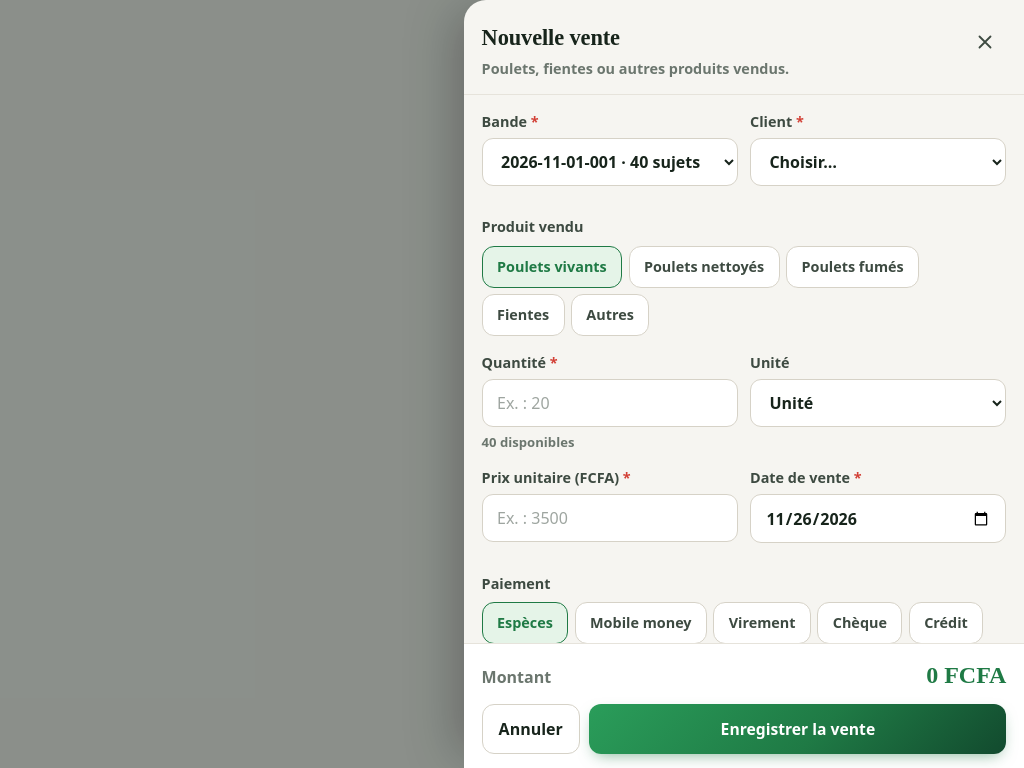
formulaires de création › vente : impossible de vendre plus de poulets que la bande n’en compte
Step 1. Select "Restaurant Le Coq" in the dropdown labelled "Client *" → (878, 162), box top-left (750, 138), bottom-right (1006, 186)
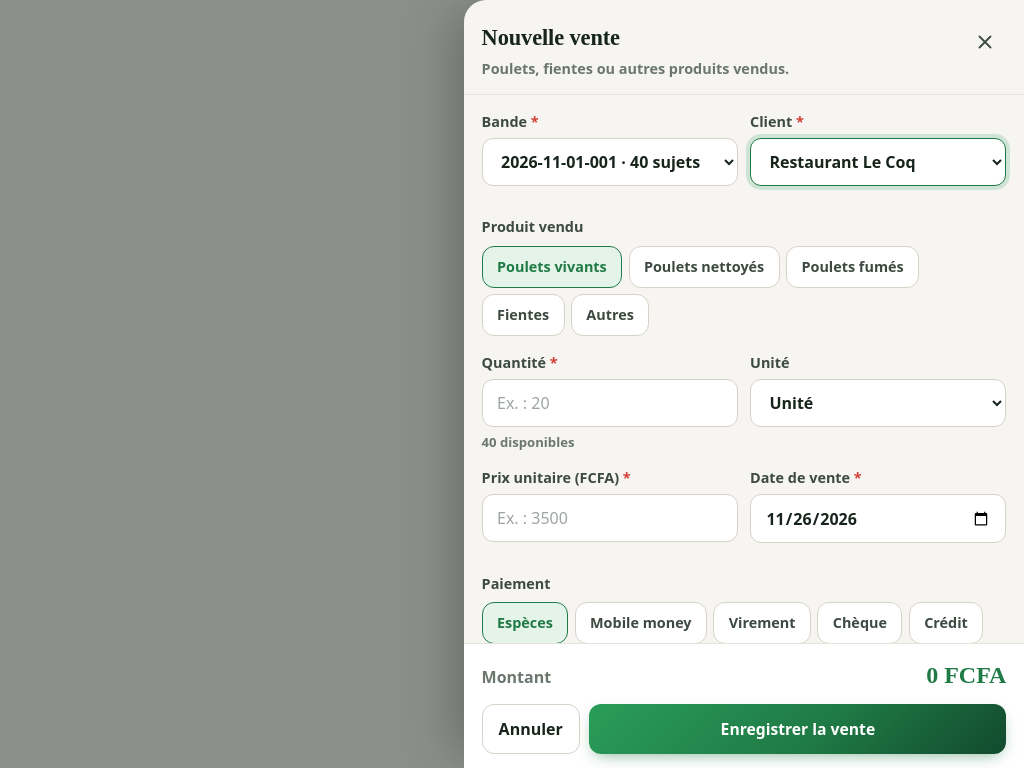
Step 2. Type "50" into the field with placeholder "Ex. : 20" → (610, 403), box top-left (482, 379), bottom-right (738, 427)
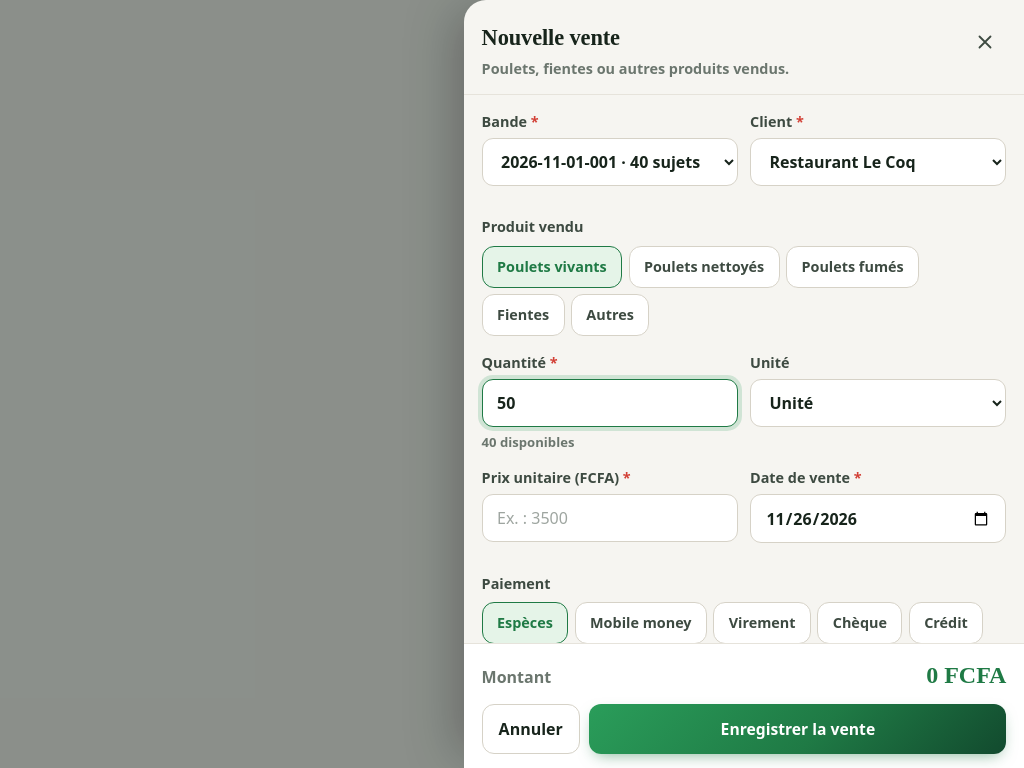
Step 3. Type "2500" into the field with placeholder "Ex. : 3500" → (610, 518), box top-left (482, 494), bottom-right (738, 542)
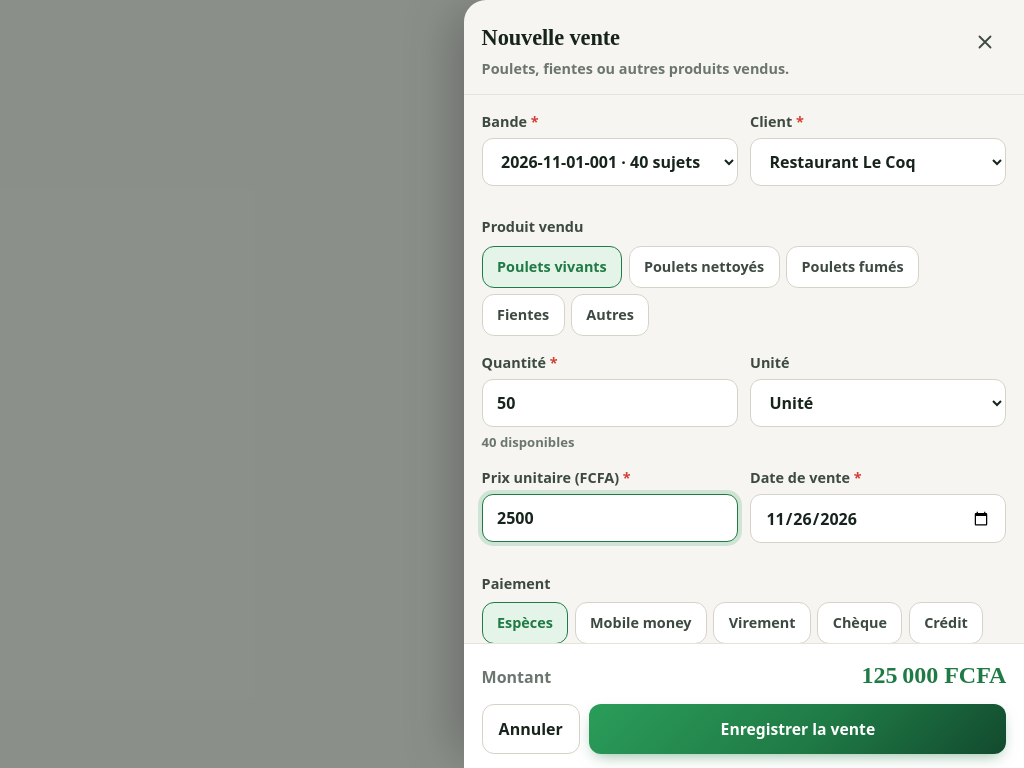
Step 4. Click the button "Enregistrer la vente" → (798, 729), box top-left (589, 704), bottom-right (1006, 754)
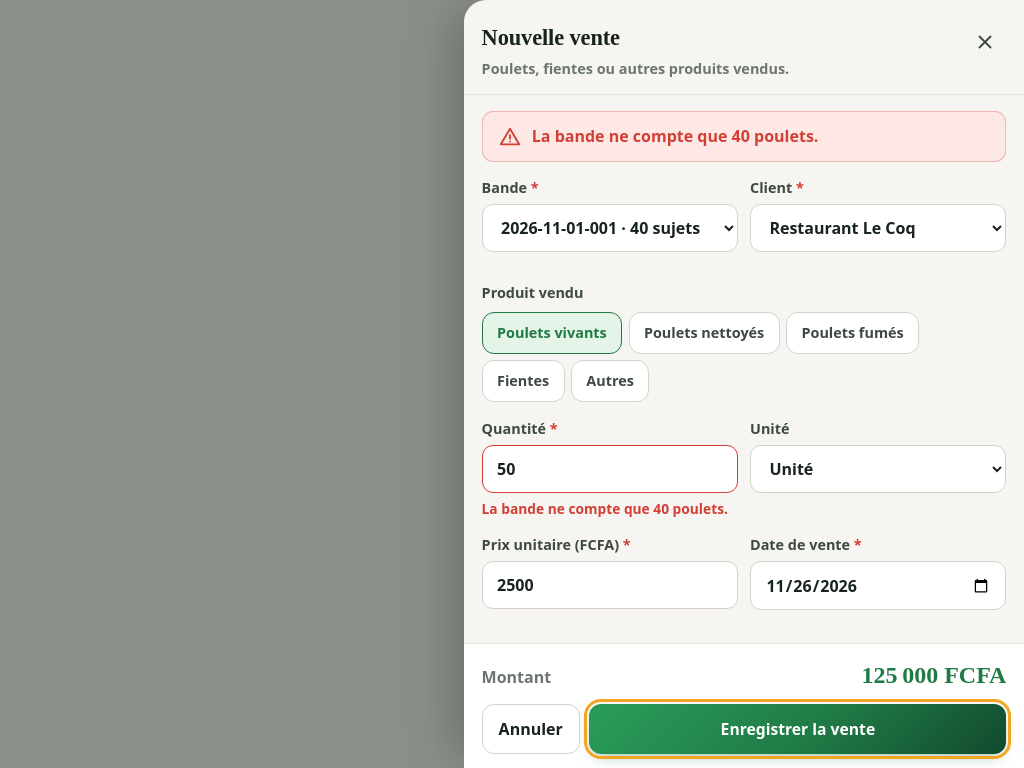
Result: the text "La bande ne compte que 40 poulets." is shown at top-left (532, 124), bottom-right (818, 148)
